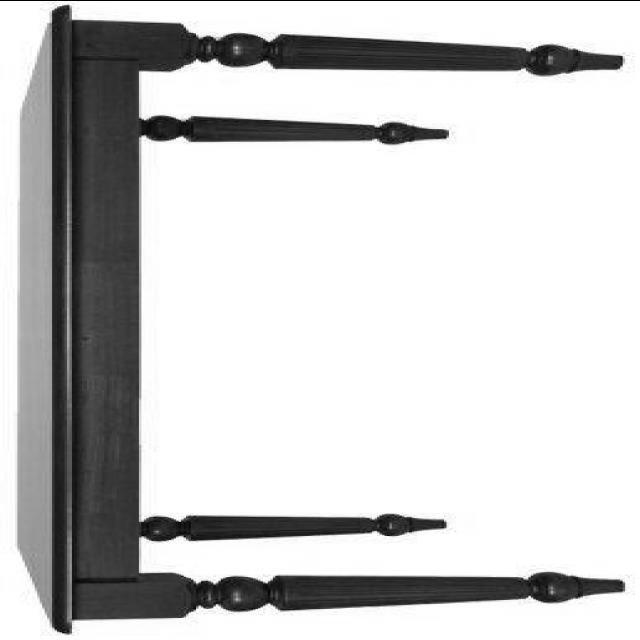table: (17, 6, 623, 634)
